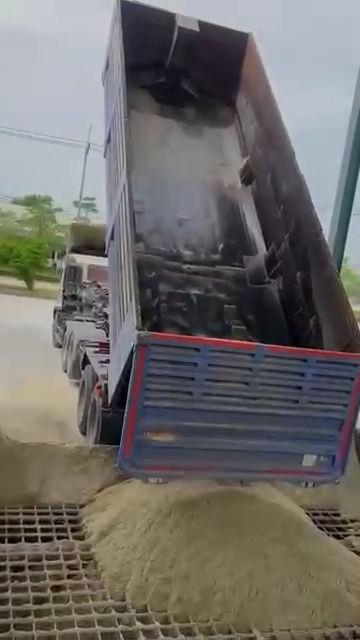sand: (1, 433, 360, 629), (3, 540, 92, 560)
